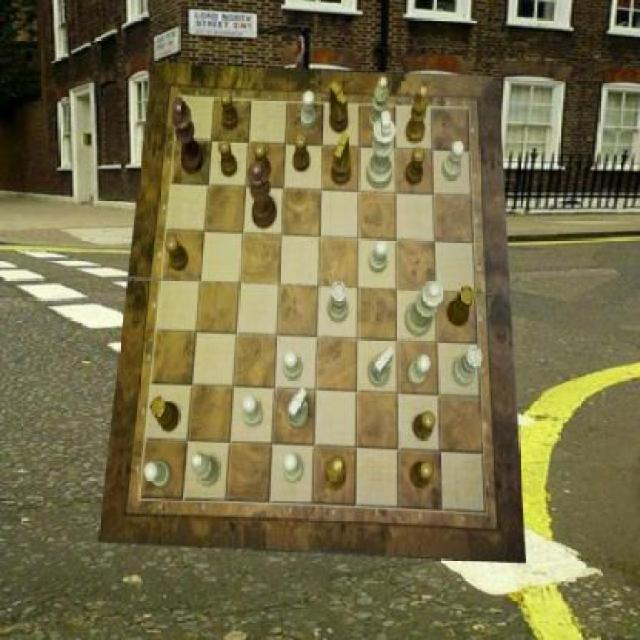bishop: (406, 86, 429, 144), (325, 457, 347, 491)
black-bishop: (172, 97, 205, 175)
black-king: (331, 134, 351, 186), (331, 81, 348, 132)
black-knight: (165, 235, 188, 270), (406, 146, 426, 184), (220, 91, 239, 131), (218, 139, 238, 176), (254, 143, 271, 182), (294, 134, 311, 172), (411, 460, 434, 488), (414, 412, 437, 440)
black-pawn: (248, 162, 277, 229)
black-queen: (149, 396, 179, 432), (448, 286, 475, 326)
black-rook: (368, 77, 388, 133), (191, 454, 218, 488)
white-bishop: (366, 111, 396, 189)
white-king: (368, 346, 394, 386), (286, 388, 309, 428)
white-knight: (441, 142, 464, 182), (144, 461, 172, 487), (369, 238, 389, 272), (243, 395, 263, 428), (408, 356, 430, 386), (300, 91, 317, 129), (283, 454, 303, 481), (283, 351, 302, 378)
white-pawn: (406, 280, 444, 336)
white-queen: (452, 346, 482, 386), (328, 282, 348, 323)
